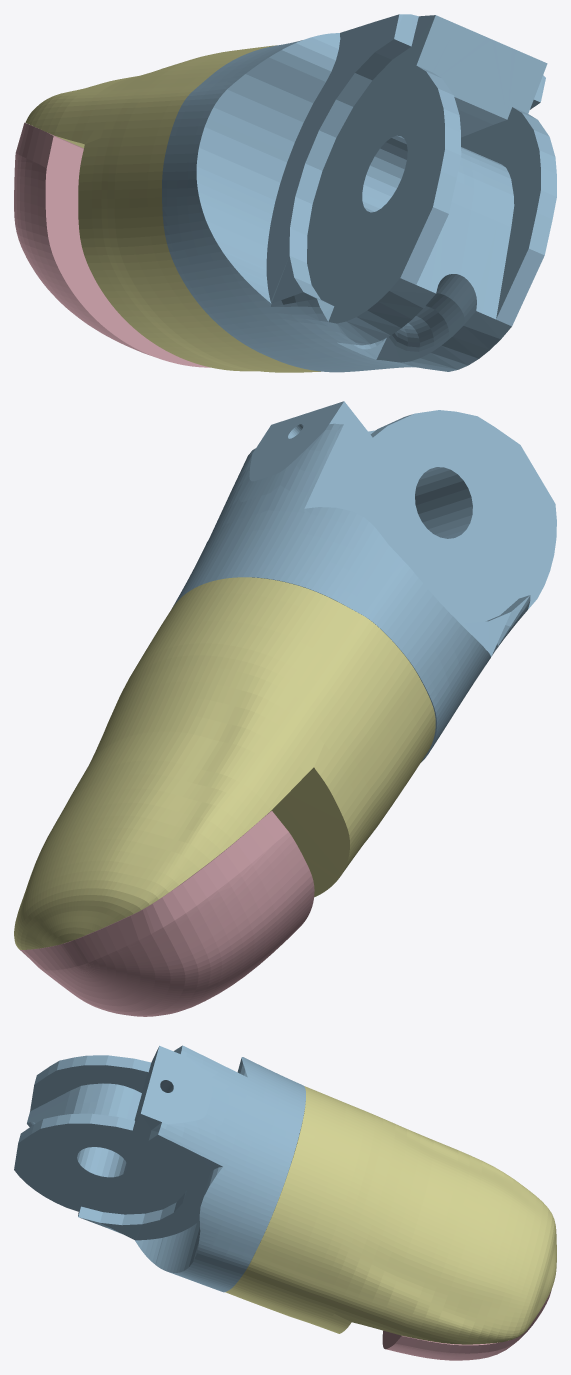
File: i02_leftHand_majeureTip_visual.obj
The picture shows the model from 3 angles, top to bottom: view 1: azimuth 30°, elevation 25°; view 2: azimuth 150°, elevation 25°; view 3: azimuth 270°, elevation 25°; orthographic projection. The views are drawn at different scales.
Visible parts, largest first — view 1: i02_leftHand_majeureTip_visual.001; view 2: i02_leftHand_majeureTip_visual.001; view 3: i02_leftHand_majeureTip_visual.001.
Part boxes in pixels (x1,y1,x2,y2): i02_leftHand_majeureTip_visual.001: [14, 14, 556, 372]; i02_leftHand_majeureTip_visual.001: [14, 401, 556, 1016]; i02_leftHand_majeureTip_visual.001: [14, 1045, 556, 1360].
Bounding box in the file's own units: 0.158 × 0.2378 × 0.3769.
